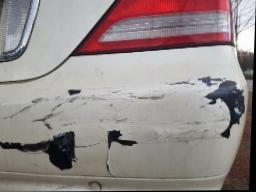Bumper: (0, 48, 248, 179)
